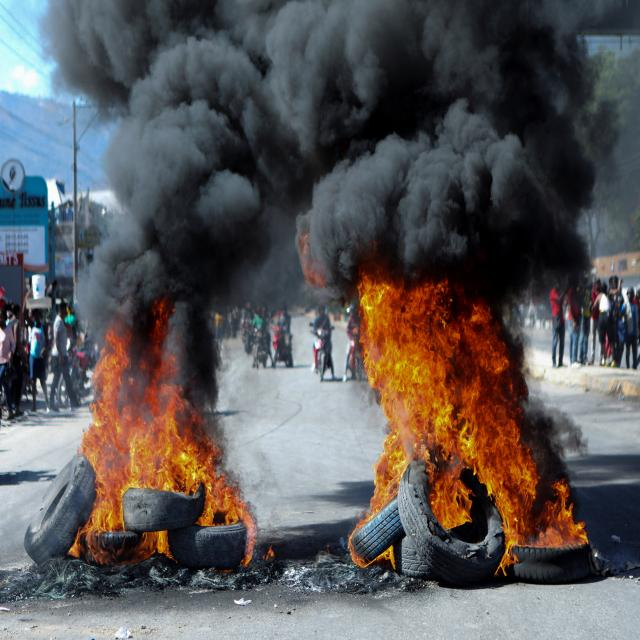fire: (348, 266, 587, 578), (68, 325, 255, 567)
